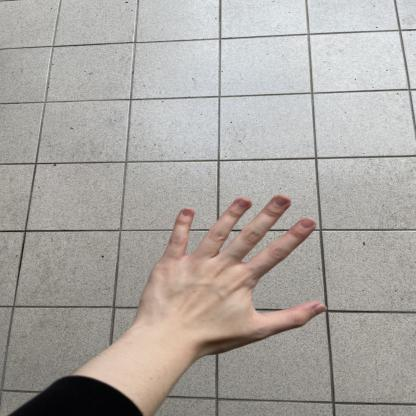bare_hand: (116, 187, 336, 368)
